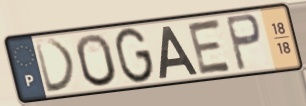A: (158, 24, 200, 81)
D: (32, 37, 79, 96)
E: (185, 17, 235, 77)
G: (113, 26, 156, 85)
O: (74, 32, 120, 89)
P: (223, 11, 264, 73)
